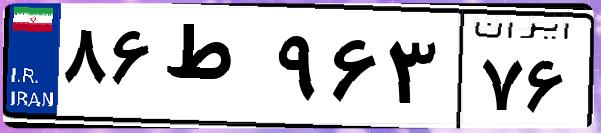3: (385, 28, 445, 110)
6: (330, 28, 385, 110), (525, 38, 570, 115), (110, 28, 158, 98)
7: (475, 38, 525, 113)
8: (57, 26, 110, 100)
9: (270, 28, 330, 110)
ط: (158, 20, 270, 120)
